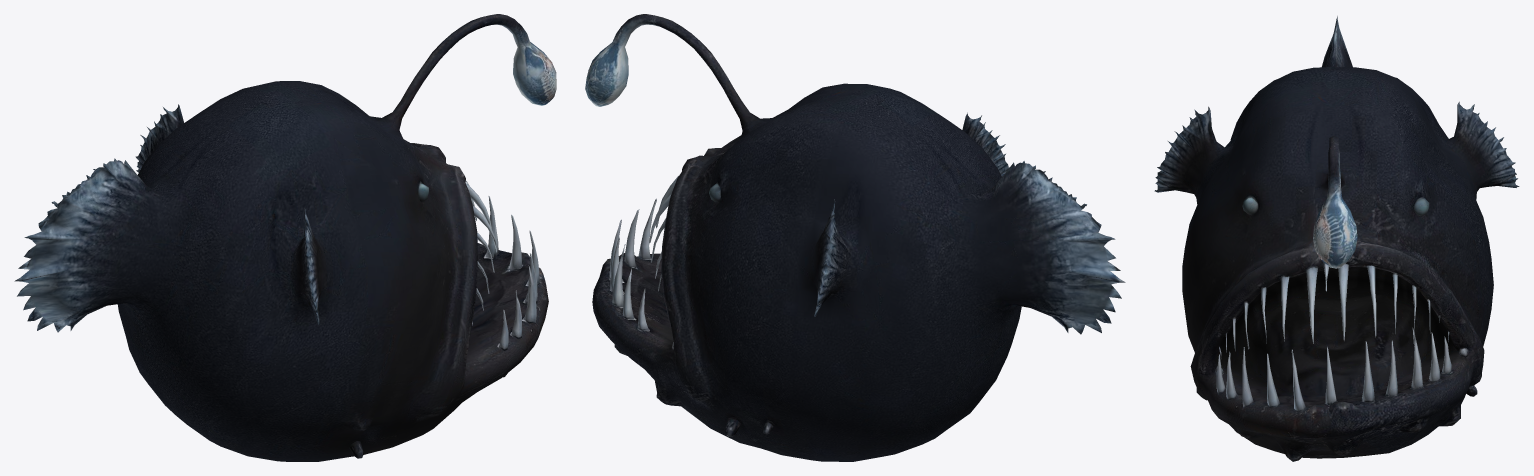
File: mlure.glb
3 renders of one model, left to right at view 1: azimuth 30°, elevation 25°; view 2: azimuth 150°, elevation 25°; view 3: azimuth 270°, elevation 25°, orthographic. The views are drawn at different scales.
Visible parts, largest first — view 1: tripo_node_efbbeaff-8efb-41e0-92b7-fc41b52da075; view 2: tripo_node_efbbeaff-8efb-41e0-92b7-fc41b52da075; view 3: tripo_node_efbbeaff-8efb-41e0-92b7-fc41b52da075.
Part boxes in pixels (x1=…): tripo_node_efbbeaff-8efb-41e0-92b7-fc41b52da075: x1=14, y1=14, x2=556, y2=461; tripo_node_efbbeaff-8efb-41e0-92b7-fc41b52da075: x1=585, y1=14, x2=1125, y2=461; tripo_node_efbbeaff-8efb-41e0-92b7-fc41b52da075: x1=1154, y1=16, x2=1519, y2=461.
Size of the model in its own units: 0.998 by 0.6894 by 0.6074.
Materials: 1 (1 with a texture image).
